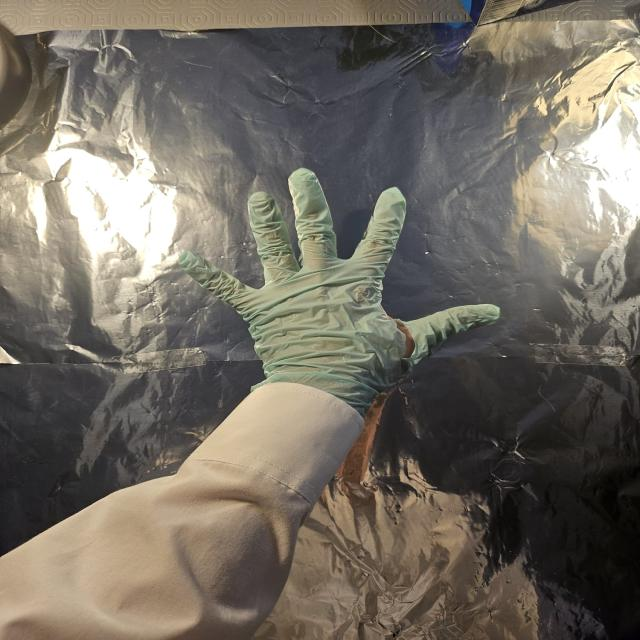gloves_damaged: (168, 165, 507, 409)
